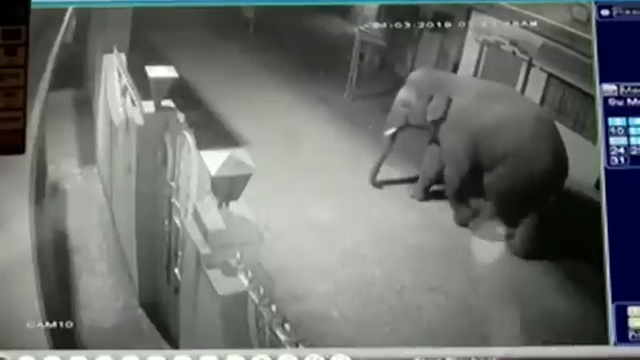Elephant: (369, 68, 569, 261)
